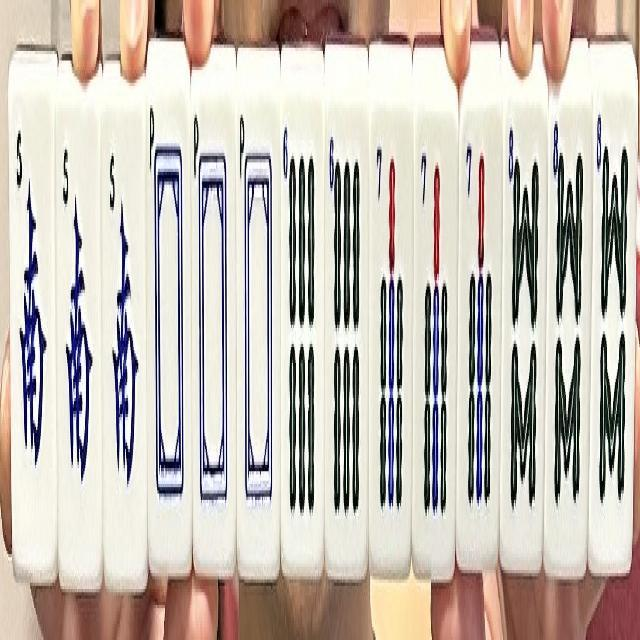hdw: (236, 90, 278, 580), (149, 92, 190, 568), (193, 93, 234, 556)
hws: (10, 77, 52, 582), (56, 109, 100, 571), (103, 115, 144, 580)
sb6: (326, 101, 366, 560), (282, 106, 322, 559)
sb7: (371, 117, 411, 557), (416, 122, 454, 567), (461, 120, 498, 550)
sb8: (594, 88, 632, 556), (504, 122, 542, 560), (550, 122, 586, 566)
